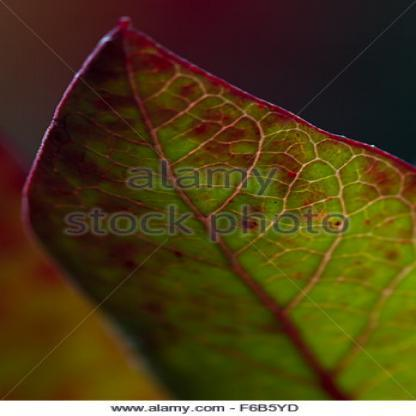Blueberry leaf: (27, 9, 414, 394)
